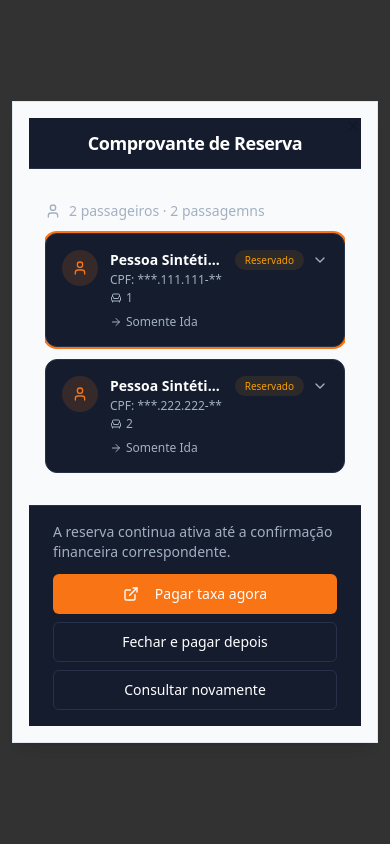
Test: open manual sale receipt › checks again before payment, suppressing a stale action when the fee was just confirmed
The image size is (390, 844).
Click the button "Pagar taxa agora" at (195, 594), box top-left (53, 574), bottom-right (337, 614)
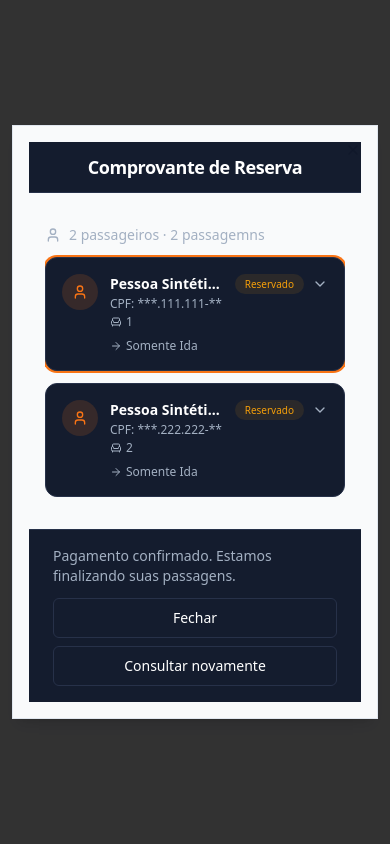
Expected: the button "Pagar taxa agora" is gone
